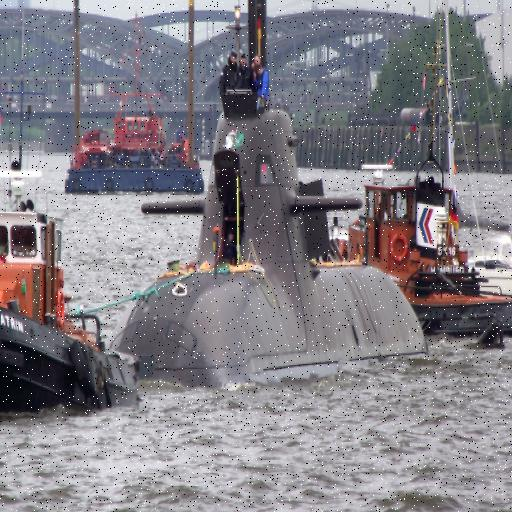submarine: (109, 1, 431, 409)
